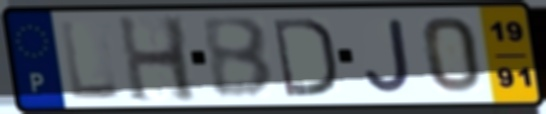0: (418, 14, 486, 96)
B: (198, 14, 277, 100)
D: (269, 15, 339, 99)
H: (114, 12, 201, 105)
J: (361, 16, 415, 96)
L: (57, 17, 125, 102)
